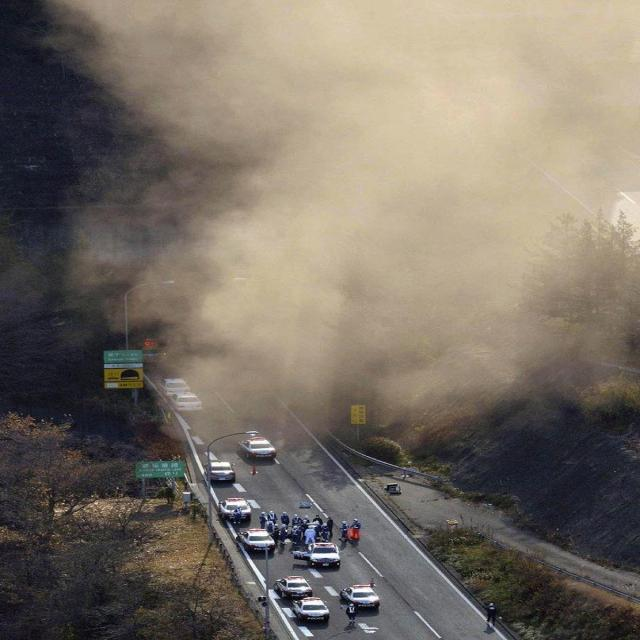Smoke: (35, 1, 640, 452)
